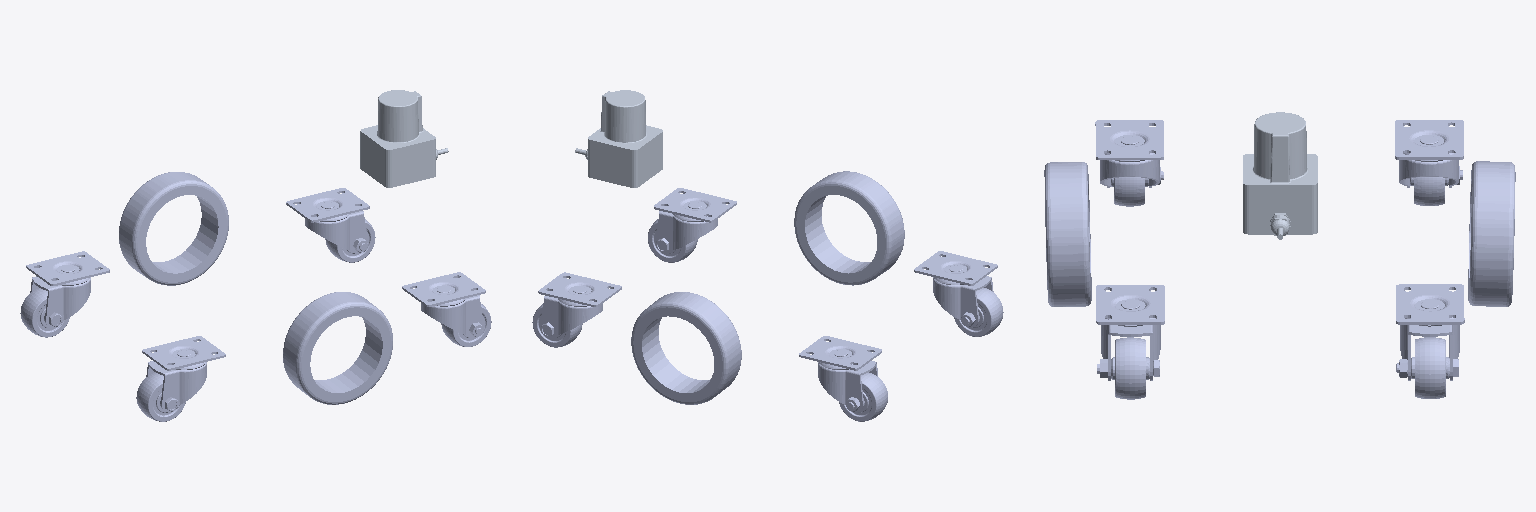
The robot description file, URDF, robot "tjark_inspection":
<?xml version="1.0" encoding="utf-8"?>
<!-- This URDF was automatically created by SolidWorks to URDF Exporter! Originally created by [author] ([email redacted]) 
     Commit Version: 1.6.0-4-g7f85cfe  Build Version: 1.6.7995.38578
     For more information, please see http://wiki.ros.org/sw_urdf_exporter -->
<robot
  name="tjark_inspection">
  <link
    name="base_link">
    <inertial>
      <origin
        xyz="0.0018956 -0.0084099 0.072818"
        rpy="0 0 0" />
      <mass
        value="6.1208" />
      <inertia
        ixx="0.033042"
        ixy="-4.2406E-06"
        ixz="-2.8057E-05"
        iyy="0.026965"
        iyz="-7.7503E-06"
        izz="0.053547" />
    </inertial>
    <visual>
      <origin
        xyz="0 0 0"
        rpy="0 0 0" />
      <geometry>
        <mesh
          filename="package://tjark_inspection/meshes/base_link.STL" />
      </geometry>
      <material
        name="">
        <color
          rgba="0.80784 0.84314 0.90588 1" />
      </material>
    </visual>
    <collision>
      <origin
        xyz="0 0 0"
        rpy="0 0 0" />
      <geometry>
        <mesh
          filename="package://tjark_inspection/meshes/base_link.STL" />
      </geometry>
    </collision>
  </link>
  <link
    name="wheel_right">
    <inertial>
      <origin
        xyz="3.6776E-15 0.022584 0.00064847"
        rpy="0 0 0" />
      <mass
        value="0.15974" />
      <inertia
        ixx="0.00022521"
        ixy="4.0356E-19"
        ixz="8.0955E-20"
        iyy="0.00041908"
        iyz="5.5667E-06"
        izz="0.00022537" />
    </inertial>
    <visual>
      <origin
        xyz="0 0 0"
        rpy="0 0 0" />
      <geometry>
        <mesh
          filename="package://tjark_inspection/meshes/wheel_right.STL" />
      </geometry>
      <material
        name="">
        <color
          rgba="0.79216 0.81961 0.93333 1" />
      </material>
    </visual>
    <collision>
      <origin
        xyz="0 0 0"
        rpy="0 0 0" />
      <geometry>
        <mesh
          filename="package://tjark_inspection/meshes/wheel_right.STL" />
      </geometry>
    </collision>
  </link>
  <joint
    name="right_to_base"
    type="continuous">
    <origin
      xyz="0.00044999 -0.19243 -0.012401"
      rpy="0 0 0.0020937" />
    <parent
      link="base_link" />
    <child
      link="wheel_right" />
    <axis
      xyz="0 1 0" />
  </joint>
  <link
    name="wheel_left">
    <inertial>
      <origin
        xyz="4.5242E-15 -0.022584 0.00064847"
        rpy="0 0 0" />
      <mass
        value="0.15974" />
      <inertia
        ixx="0.00022521"
        ixy="2.9488E-21"
        ixz="-1.5727E-20"
        iyy="0.00041908"
        iyz="-5.5667E-06"
        izz="0.00022537" />
    </inertial>
    <visual>
      <origin
        xyz="0 0 0"
        rpy="0 0 0" />
      <geometry>
        <mesh
          filename="package://tjark_inspection/meshes/wheel_left.STL" />
      </geometry>
      <material
        name="">
        <color
          rgba="0.79216 0.81961 0.93333 1" />
      </material>
    </visual>
    <collision>
      <origin
        xyz="0 0 0"
        rpy="0 0 0" />
      <geometry>
        <mesh
          filename="package://tjark_inspection/meshes/wheel_left.STL" />
      </geometry>
    </collision>
  </link>
  <joint
    name="left_to_base"
    type="continuous">
    <origin
      xyz="-0.00035578 0.19242 -0.012401"
      rpy="0 0 0.0020937" />
    <parent
      link="base_link" />
    <child
      link="wheel_left" />
    <axis
      xyz="0 1 0" />
  </joint>
  <link
    name="wheel_lf">
    <inertial>
      <origin
        xyz="0.018484 -0.00012732 -0.030448"
        rpy="0 0 0" />
      <mass
        value="0.076076" />
      <inertia
        ixx="4.0043E-05"
        ixy="8.24E-08"
        ixz="1.5107E-05"
        iyy="5.5058E-05"
        iyz="-1.1589E-07"
        izz="3.5163E-05" />
    </inertial>
    <visual>
      <origin
        xyz="0 0 0"
        rpy="0 0 0" />
      <geometry>
        <mesh
          filename="package://tjark_inspection/meshes/wheel_lf.STL" />
      </geometry>
      <material
        name="">
        <color
          rgba="0.79216 0.81961 0.93333 1" />
      </material>
    </visual>
    <collision>
      <origin
        xyz="0 0 0"
        rpy="0 0 0" />
      <geometry>
        <mesh
          filename="package://tjark_inspection/meshes/wheel_lf.STL" />
      </geometry>
    </collision>
  </link>
  <joint
    name="lf_to_base"
    type="fixed">
    <origin
      xyz="0.1558 0.12032 -0.0025"
      rpy="0 0 0.0020943" />
    <parent
      link="base_link" />
    <child
      link="wheel_lf" />
    <axis
      xyz="0 0 0" />
  </joint>
  <link
    name="wheel_rf">
    <inertial>
      <origin
        xyz="0.018484 -0.00012732 -0.030448"
        rpy="0 0 0" />
      <mass
        value="0.076076" />
      <inertia
        ixx="4.0043E-05"
        ixy="8.24E-08"
        ixz="1.5107E-05"
        iyy="5.5058E-05"
        iyz="-1.1589E-07"
        izz="3.5163E-05" />
    </inertial>
    <visual>
      <origin
        xyz="0 0 0"
        rpy="0 0 0" />
      <geometry>
        <mesh
          filename="package://tjark_inspection/meshes/wheel_rf.STL" />
      </geometry>
      <material
        name="">
        <color
          rgba="0.79216 0.81961 0.93333 1" />
      </material>
    </visual>
    <collision>
      <origin
        xyz="0 0 0"
        rpy="0 0 0" />
      <geometry>
        <mesh
          filename="package://tjark_inspection/meshes/wheel_rf.STL" />
      </geometry>
    </collision>
  </link>
  <joint
    name="rf_to_base"
    type="fixed">
    <origin
      xyz="0.1563 -0.11968 -0.0025"
      rpy="0 0 0.0020943" />
    <parent
      link="base_link" />
    <child
      link="wheel_rf" />
    <axis
      xyz="0 0 0" />
  </joint>
  <link
    name="wheel_lb">
    <inertial>
      <origin
        xyz="-0.018484 0.00012732 -0.030448"
        rpy="0 0 0" />
      <mass
        value="0.076076" />
      <inertia
        ixx="4.0043E-05"
        ixy="8.24E-08"
        ixz="-1.5107E-05"
        iyy="5.5058E-05"
        iyz="1.1589E-07"
        izz="3.5163E-05" />
    </inertial>
    <visual>
      <origin
        xyz="0 0 0"
        rpy="0 0 0" />
      <geometry>
        <mesh
          filename="package://tjark_inspection/meshes/wheel_lb.STL" />
      </geometry>
      <material
        name="">
        <color
          rgba="0.79216 0.81961 0.93333 1" />
      </material>
    </visual>
    <collision>
      <origin
        xyz="0 0 0"
        rpy="0 0 0" />
      <geometry>
        <mesh
          filename="package://tjark_inspection/meshes/wheel_lb.STL" />
      </geometry>
    </collision>
  </link>
  <joint
    name="lb_to_base"
    type="fixed">
    <origin
      xyz="-0.1562 0.11967 -0.0025"
      rpy="0 0 0.0020943" />
    <parent
      link="base_link" />
    <child
      link="wheel_lb" />
    <axis
      xyz="0 0 0" />
  </joint>
  <link
    name="wheel_rb">
    <inertial>
      <origin
        xyz="-0.018484 0.00012732 -0.030448"
        rpy="0 0 0" />
      <mass
        value="0.076076" />
      <inertia
        ixx="4.0043E-05"
        ixy="8.24E-08"
        ixz="-1.5107E-05"
        iyy="5.5058E-05"
        iyz="1.1589E-07"
        izz="3.5163E-05" />
    </inertial>
    <visual>
      <origin
        xyz="0 0 0"
        rpy="0 0 0" />
      <geometry>
        <mesh
          filename="package://tjark_inspection/meshes/wheel_rb.STL" />
      </geometry>
      <material
        name="">
        <color
          rgba="0.79216 0.81961 0.93333 1" />
      </material>
    </visual>
    <collision>
      <origin
        xyz="0 0 0"
        rpy="0 0 0" />
      <geometry>
        <mesh
          filename="package://tjark_inspection/meshes/wheel_rb.STL" />
      </geometry>
    </collision>
  </link>
  <joint
    name="rb_to_base"
    type="fixed">
    <origin
      xyz="-0.1557 -0.12033 -0.0025"
      rpy="0 0 0.0020943" />
    <parent
      link="base_link" />
    <child
      link="wheel_rb" />
    <axis
      xyz="0 0 0" />
  </joint>
  <link
    name="laser_link">
    <inertial>
      <origin
        xyz="-0.0036015 5.8764E-09 -0.030808"
        rpy="0 0 0" />
      <mass
        value="0.21915" />
      <inertia
        ixx="0.00016497"
        ixy="1.8787E-10"
        ixz="-7.1144E-07"
        iyy="0.00017063"
        iyz="-5.4041E-11"
        izz="0.00011099" />
    </inertial>
    <visual>
      <origin
        xyz="0 0 0"
        rpy="0 0 0" />
      <geometry>
        <mesh
          filename="package://tjark_inspection/meshes/laser_link.STL" />
      </geometry>
      <material
        name="">
        <color
          rgba="0.80784 0.84314 0.90588 1" />
      </material>
    </visual>
    <collision>
      <origin
        xyz="0 0 0"
        rpy="0 0 0" />
      <geometry>
        <mesh
          filename="package://tjark_inspection/meshes/laser_link.STL" />
      </geometry>
    </collision>
  </link>
  <joint
    name="laser_to_base"
    type="fixed">
    <origin
      xyz="0.16786 0.00034612 0.14562"
      rpy="0 0 3.14" />
    <parent
      link="base_link" />
    <child
      link="laser_link" />
    <axis
      xyz="0 0 0" />
  </joint>

</robot>

--- Render facts (derived) ---
3 views of the same robot in one strip: view 1: azimuth 30°, elevation 25°; view 2: azimuth 150°, elevation 25°; view 3: azimuth 270°, elevation 25° (orthographic).
Model tjark_inspection with 8 links and 7 joints (2 continuous, 5 fixed), rooted at base_link, posed every joint at zero.
Links seen in each view (by area): view 1: wheel_right, wheel_left, laser_link, wheel_lb, wheel_rb, wheel_rf, wheel_lf; view 2: wheel_left, wheel_right, laser_link, wheel_rb, wheel_lb, wheel_lf, wheel_rf; view 3: laser_link, wheel_left, wheel_lf, wheel_right, wheel_rf, wheel_lb, wheel_rb.
Boxes of the visible links, x1,y1,x2,y2 form: wheel_right: [283, 292, 392, 404]; wheel_left: [119, 172, 228, 285]; laser_link: [360, 90, 448, 187]; wheel_lb: [20, 251, 109, 337]; wheel_rb: [136, 336, 225, 421]; wheel_rf: [402, 272, 491, 346]; wheel_lf: [286, 188, 375, 262]; wheel_left: [631, 292, 741, 404]; wheel_right: [794, 171, 904, 285]; laser_link: [575, 90, 662, 187]; wheel_rb: [914, 251, 1003, 336]; wheel_lb: [799, 336, 887, 421]; wheel_lf: [532, 272, 621, 347]; wheel_rf: [648, 188, 736, 262]; laser_link: [1243, 112, 1317, 239]; wheel_left: [1468, 161, 1515, 306]; wheel_lf: [1396, 284, 1464, 398]; wheel_right: [1044, 162, 1091, 306]; wheel_rf: [1096, 285, 1164, 399]; wheel_lb: [1395, 120, 1463, 205]; wheel_rb: [1095, 120, 1163, 206].
Size in the robot's own frame: 0.4378 by 0.3776 by 0.2367 metres.
7 mesh visuals loaded from 8 distinct referenced files (7 binary STL); not drawn: 1 (reference not matched to a file when rendering).
